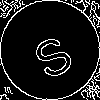S: (25, 25, 77, 82)
